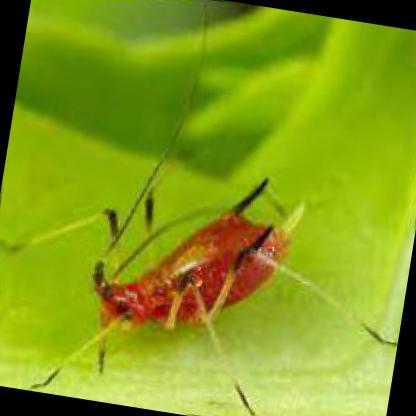uroleucon compositae: (2, 5, 383, 414)
